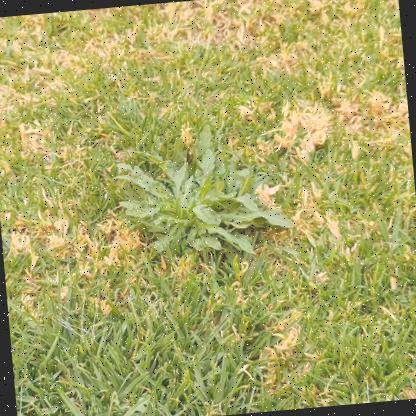Weeds: (107, 118, 300, 266)
